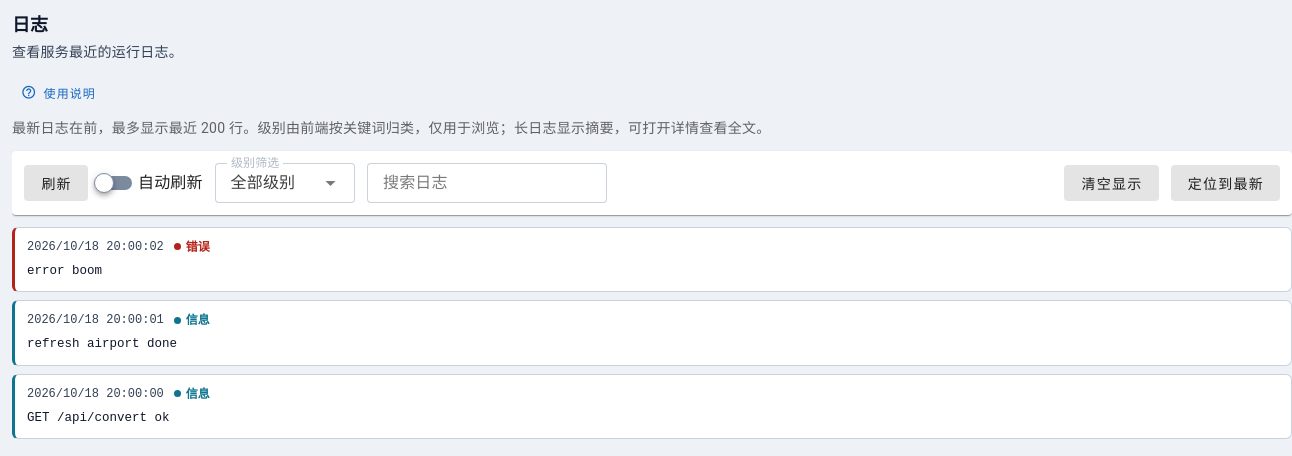
Test: LogsPage › 关键字过滤：输入 error 后只剩匹配行
Type "error" into the field labelled "搜索日志".
click(481, 183); type("error")  # box [367, 163, 595, 203]
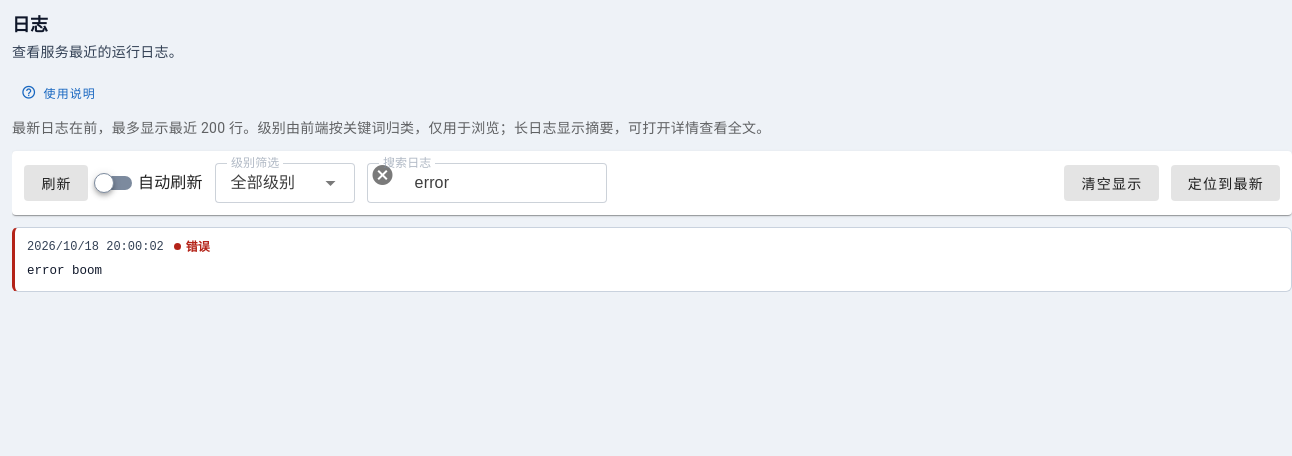
Expected: the text "error boom" is shown, [27, 264, 102, 278]
Result: the text "GET /api/convert ok" is gone
Result: the text "refresh airport done" is gone
